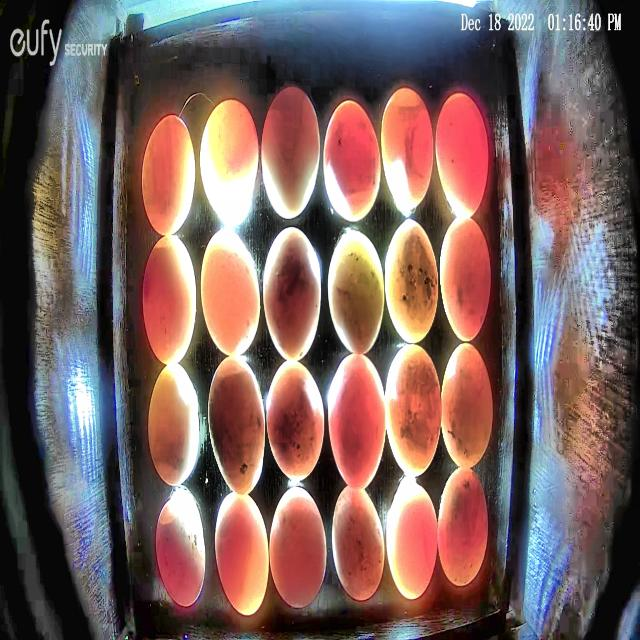DE: (327, 354, 386, 492), (262, 226, 322, 361), (260, 85, 320, 218), (208, 358, 264, 497), (200, 229, 260, 357), (141, 233, 197, 365), (386, 346, 442, 478), (200, 99, 260, 222), (266, 361, 325, 482), (323, 100, 381, 222), (327, 232, 384, 356), (269, 488, 326, 609), (384, 219, 439, 344), (434, 92, 488, 219), (215, 492, 269, 616), (381, 86, 434, 212), (439, 216, 492, 342), (441, 341, 492, 470), (147, 363, 200, 487), (142, 115, 196, 235), (438, 466, 489, 587), (331, 486, 385, 600), (387, 483, 438, 600), (156, 496, 206, 605)
